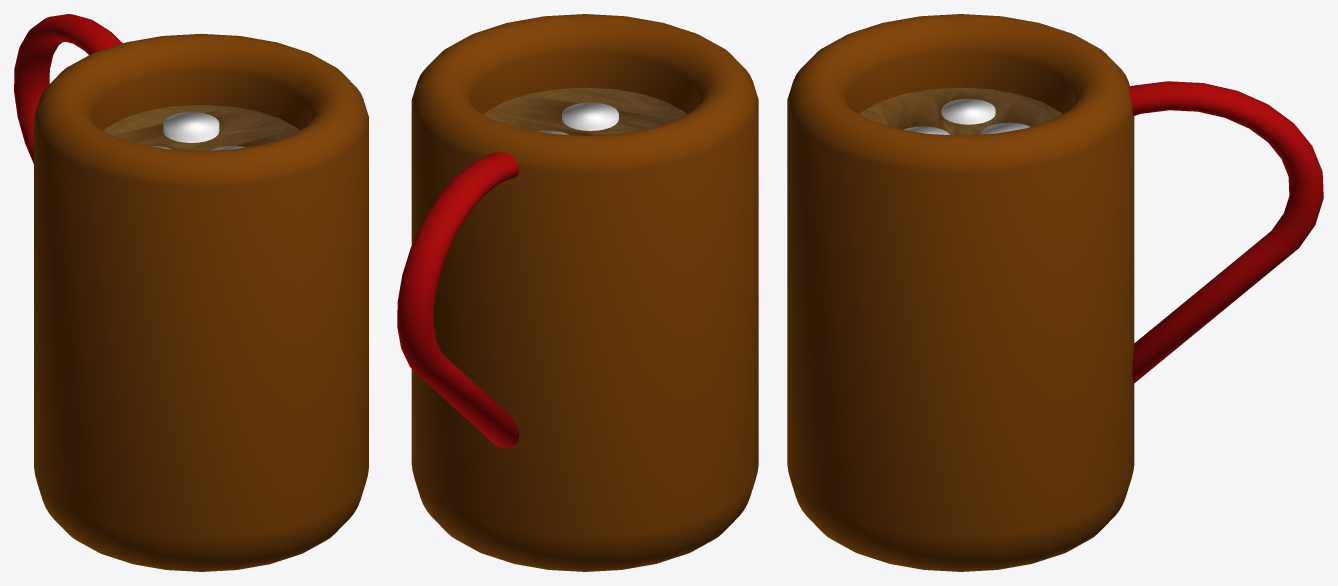
3 views of the same model, side by side, from view 1: azimuth 30°, elevation 25°; view 2: azimuth 150°, elevation 25°; view 3: azimuth 270°, elevation 25° (orthographic). The views are drawn at different scales.
Parts seen in each view (by area): view 1: mesh1_mesh1-geometry_1, mesh2_mesh2-geometry_1, mesh1_mesh1-geometry_2, mesh1_mesh1-geometry_3; view 2: mesh1_mesh1-geometry_1, mesh2_mesh2-geometry_1, mesh1_mesh1-geometry_2, mesh1_mesh1-geometry_3; view 3: mesh1_mesh1-geometry_1, mesh2_mesh2-geometry_1, mesh1_mesh1-geometry_2, mesh1_mesh1-geometry_3.
Part boxes in pixels (x1,y1,x2,y2): mesh1_mesh1-geometry_1: (34,33,368,571); mesh2_mesh2-geometry_1: (14,14,122,163); mesh1_mesh1-geometry_2: (104,105,298,150); mesh1_mesh1-geometry_3: (150,112,245,150); mesh1_mesh1-geometry_1: (411,14,758,571); mesh2_mesh2-geometry_1: (397,152,519,448); mesh1_mesh1-geometry_2: (484,88,686,135); mesh1_mesh1-geometry_3: (538,102,618,134); mesh1_mesh1-geometry_1: (787,14,1134,571); mesh2_mesh2-geometry_1: (1128,81,1323,383); mesh1_mesh1-geometry_2: (859,88,1061,135); mesh1_mesh1-geometry_3: (904,98,1030,134).
Size of the model in its own units: 0.4331 by 0.6037 by 0.6693.
